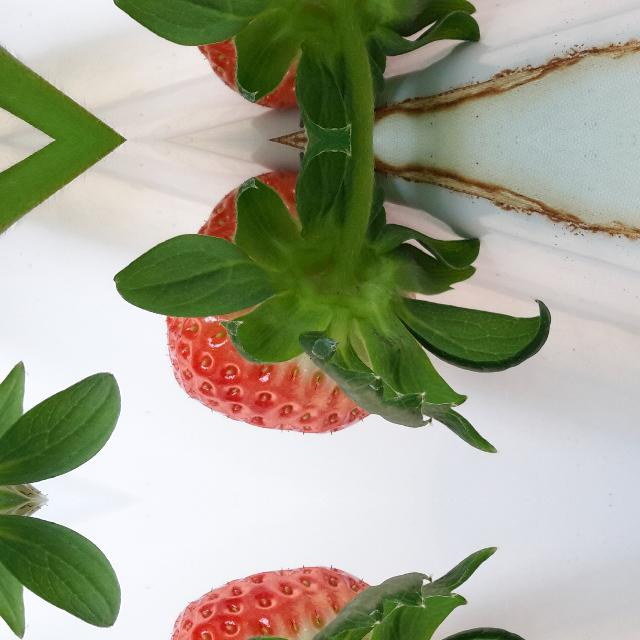Health_100: (165, 168, 373, 436), (165, 0, 373, 111), (165, 564, 373, 640)
